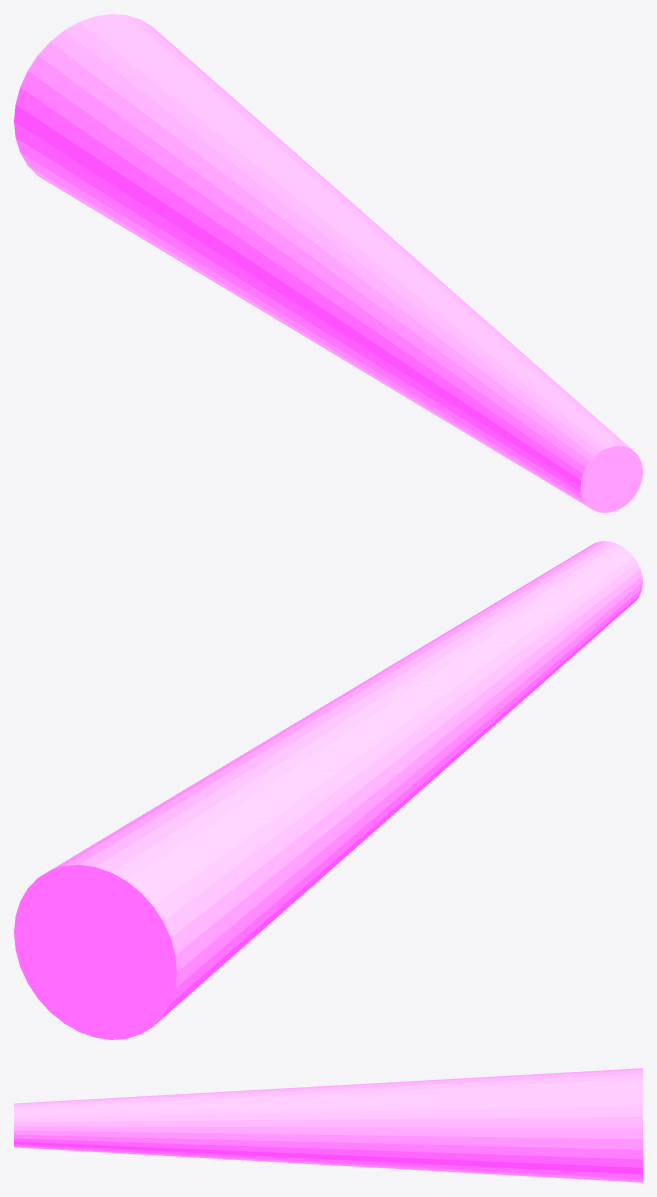
The model's file is crude_ray.gltf.
The picture shows the model from 3 angles, top to bottom: view 1: azimuth 30°, elevation 25°; view 2: azimuth 150°, elevation 25°; view 3: azimuth 270°, elevation 25°; orthographic projection. The views are drawn at different scales.
Parts seen in each view (by area): view 1: Cylinder; view 2: Cylinder; view 3: Cylinder.
Boxes of the visible parts, box(x1,y1,x2,y2) form: Cylinder: box(14, 14, 642, 512); Cylinder: box(14, 541, 642, 1039); Cylinder: box(14, 1068, 642, 1182).
Size of the model in its own units: 0.1448 by 0.1448 by 0.7938.
